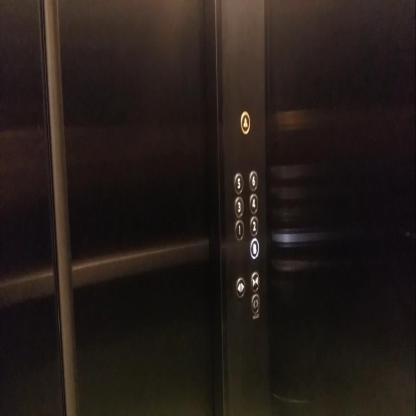1: (234, 219, 244, 241)
2: (249, 216, 258, 236)
3: (233, 196, 244, 217)
4: (249, 192, 258, 215)
5: (234, 172, 244, 193)
6: (248, 170, 258, 192)
alarm: (240, 110, 250, 134)
blur: (249, 237, 259, 260)
close: (250, 271, 260, 292)
open: (235, 276, 246, 299), (250, 293, 260, 314)
